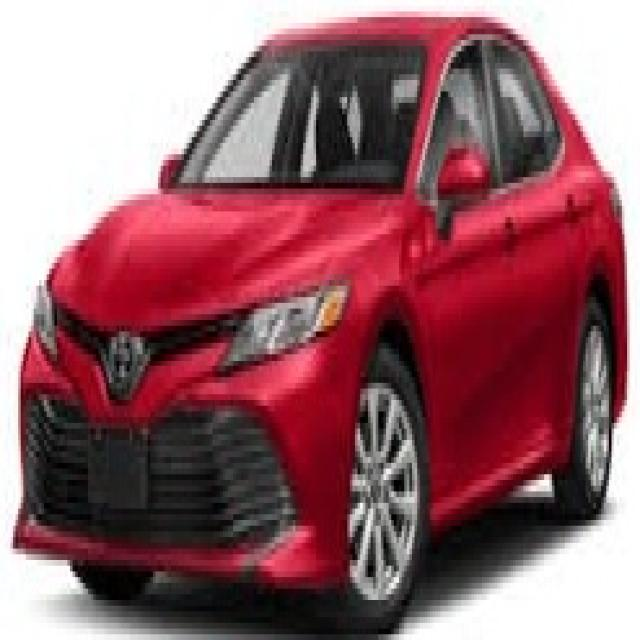red: (12, 21, 635, 576)
